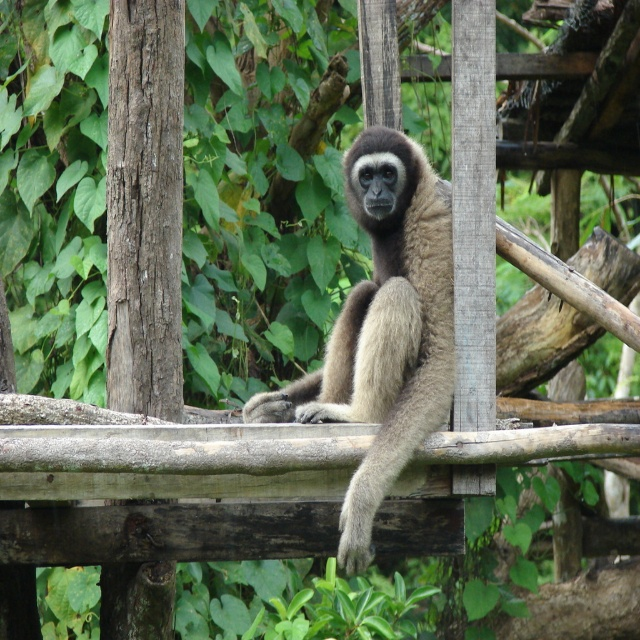Monkey: (243, 124, 454, 578)
